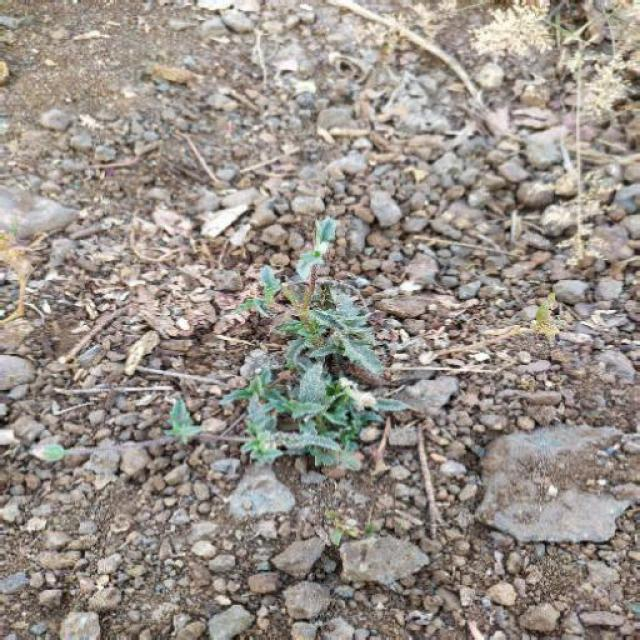weed: (158, 205, 408, 523)
